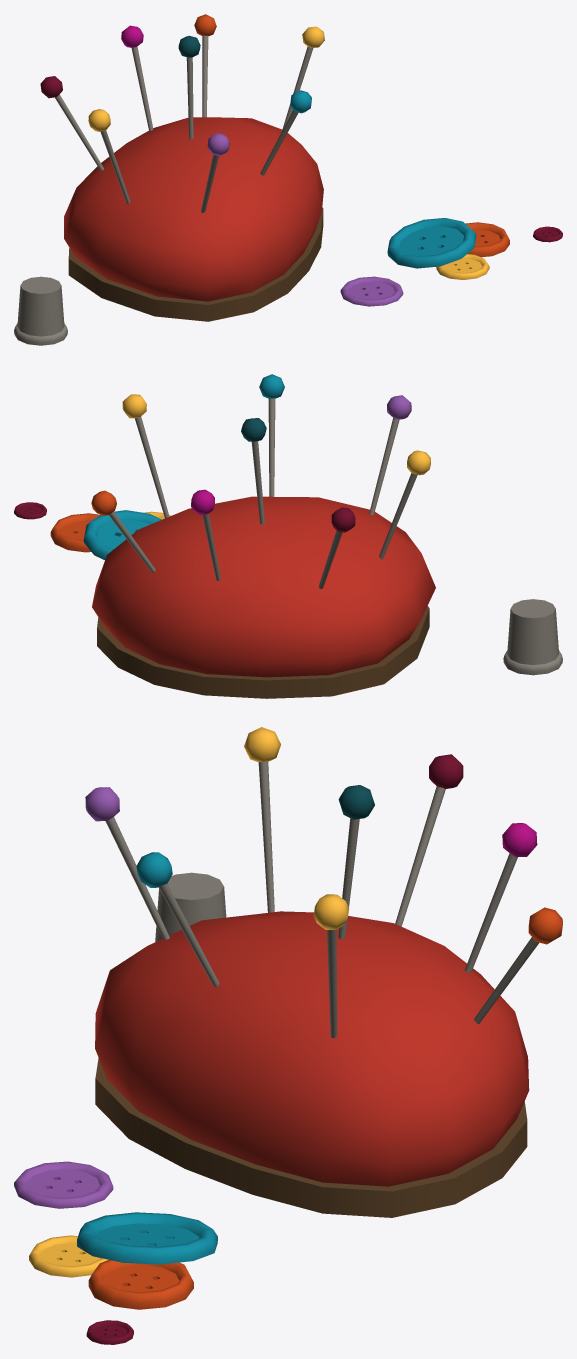
File: Decoração.fbx
3 views of the same model, one above another, from view 1: azimuth 30°, elevation 25°; view 2: azimuth 150°, elevation 25°; view 3: azimuth 270°, elevation 25° (orthographic). The views are drawn at different scales.
Parts seen in each view (by area): view 1: 3 Mace_Material #25_0, 3 Mace part_Material #24_0, 3 Pins_Material #23_0, 3 Button01_Material #35_0, 3 Thimble_Material #23_0, 3 Button03_Material #32_0, 3 Button05_Material #33_0, 3 Button02_Material #37_0, 3 Pin ball 02_Material #37_0, 3 Pin ball 08_Material #32_0; view 2: 3 Mace_Material #25_0, 3 Mace part_Material #24_0, 3 Pins_Material #23_0, 3 Thimble_Material #23_0, 3 Button01_Material #35_0, 3 Button05_Material #33_0, 3 Pin ball 05_Material #33_0, 3 Pin ball 01_Material #38_0, 3 Pin ball 03_Material #36_0, 3 Pin ball 04_Material #34_0, 3 Pin ball 07_Material #35_0, 3 Pin ball 02_Material #37_0 (+3 smaller); view 3: 3 Mace_Material #25_0, 3 Mace part_Material #24_0, 3 Pins_Material #23_0, 3 Button01_Material #35_0, 3 Button05_Material #33_0, 3 Button03_Material #32_0, 3 Thimble_Material #23_0, 3 Button02_Material #37_0, 3 Pin ball 06_Material #37_0, 3 Pin ball 07_Material #35_0, 3 Pin ball 02_Material #37_0, 3 Pin ball 05_Material #33_0 (+5 smaller).
Part boxes in pixels (box(x1,y1,x2,y2)): 3 Mace_Material #25_0: box(64, 117, 323, 301); 3 Mace part_Material #24_0: box(68, 207, 323, 321); 3 Pins_Material #23_0: box(54, 35, 313, 212); 3 Button01_Material #35_0: box(387, 218, 476, 268); 3 Thimble_Material #23_0: box(14, 276, 67, 345); 3 Button03_Material #32_0: box(340, 276, 403, 306); 3 Button05_Material #33_0: box(465, 222, 509, 257); 3 Button02_Material #37_0: box(436, 254, 489, 279); 3 Pin ball 02_Material #37_0: box(88, 109, 110, 131); 3 Pin ball 08_Material #32_0: box(207, 133, 229, 155); 3 Mace_Material #25_0: box(92, 496, 435, 677); 3 Mace part_Material #24_0: box(97, 606, 429, 698); 3 Pins_Material #23_0: box(109, 398, 417, 588); 3 Thimble_Material #23_0: box(503, 599, 562, 675); 3 Button01_Material #35_0: box(83, 510, 161, 559); 3 Button05_Material #33_0: box(50, 513, 100, 552); 3 Pin ball 05_Material #33_0: box(91, 490, 116, 516); 3 Pin ball 01_Material #38_0: box(331, 507, 355, 532); 3 Pin ball 03_Material #36_0: box(191, 489, 214, 514); 3 Pin ball 04_Material #34_0: box(241, 418, 266, 441); 3 Pin ball 07_Material #35_0: box(259, 374, 284, 398); 3 Pin ball 02_Material #37_0: box(407, 450, 430, 475); 3 Mace_Material #25_0: box(95, 911, 529, 1186); 3 Mace part_Material #24_0: box(95, 1058, 527, 1217); 3 Pins_Material #23_0: box(105, 761, 538, 1038); 3 Button01_Material #35_0: box(77, 1212, 217, 1264); 3 Button05_Material #33_0: box(88, 1260, 193, 1309); 3 Button03_Material #32_0: box(14, 1161, 113, 1208); 3 Thimble_Material #23_0: box(155, 872, 226, 941); 3 Button02_Material #37_0: box(29, 1235, 108, 1277); 3 Pin ball 06_Material #37_0: box(313, 894, 348, 929); 3 Pin ball 07_Material #35_0: box(136, 852, 172, 887); 3 Pin ball 02_Material #37_0: box(244, 727, 280, 762); 3 Pin ball 05_Material #33_0: box(528, 907, 562, 944).
Bounding box in the file's own units: 19.56 × 7.62 × 11.37.
